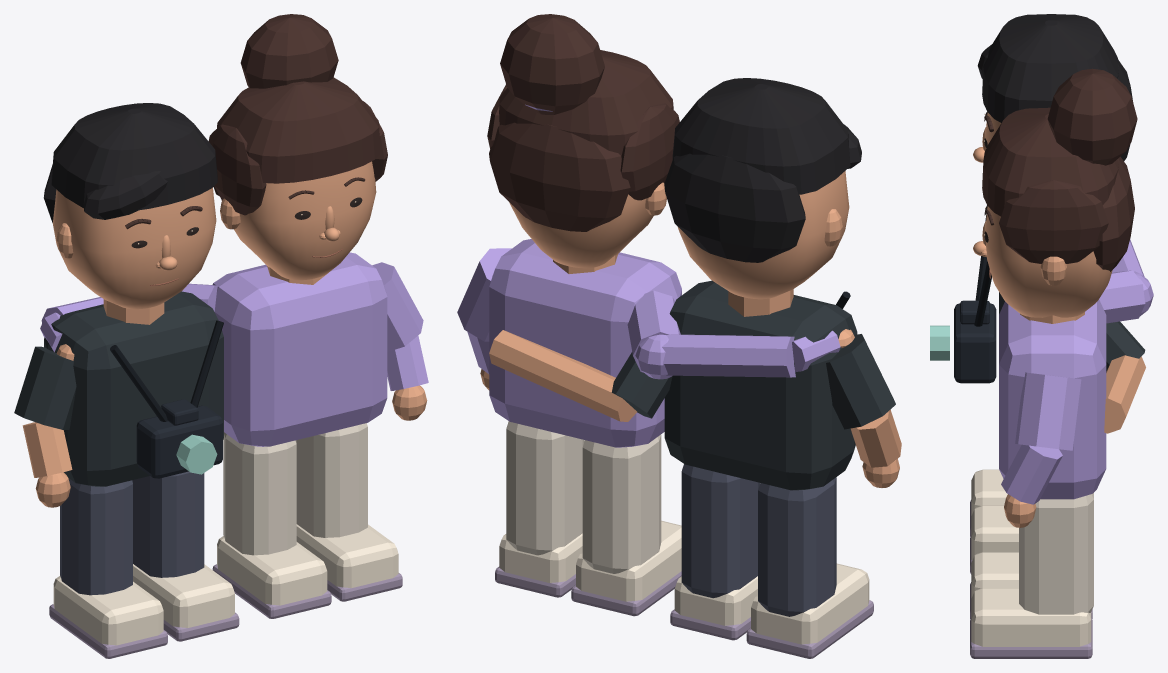
The model's file is sam-travel-couple.glb.
3 views of the same model, side by side, from view 1: azimuth 30°, elevation 25°; view 2: azimuth 150°, elevation 25°; view 3: azimuth 270°, elevation 25° (orthographic). The views are drawn at different scales.
Visible parts, largest first — view 1: Travel companions; view 2: Travel companions; view 3: Travel companions.
Boxes of the visible parts, box(x1,y1,x2,y2) form: Travel companions: box(14, 14, 428, 658); Travel companions: box(457, 14, 901, 658); Travel companions: box(930, 14, 1153, 658).
Size of the model in its own units: 1.91 by 2.47 by 0.895.
